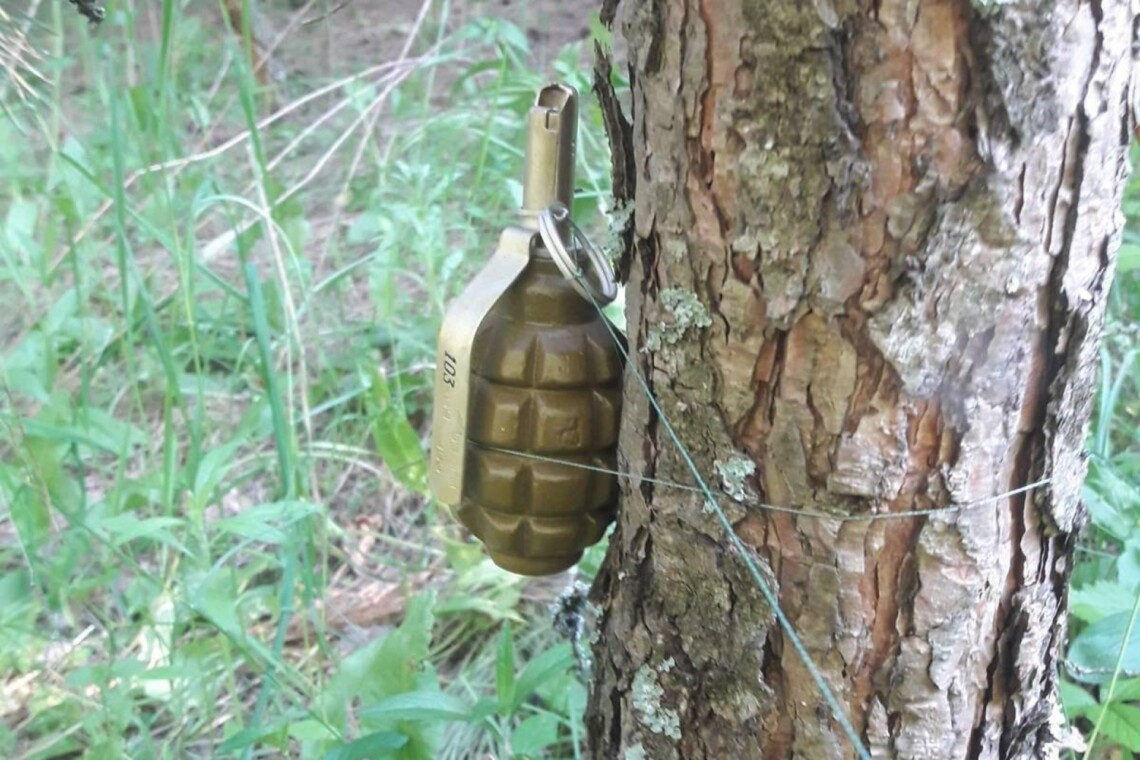F1: (428, 82, 624, 576)
